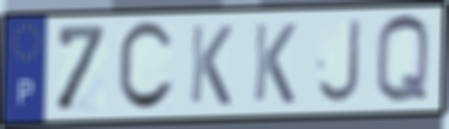7: (54, 23, 110, 116)
C: (114, 18, 177, 115)
J: (314, 16, 363, 107)
K: (250, 20, 299, 107), (187, 22, 235, 109)
Q: (373, 12, 433, 109)
